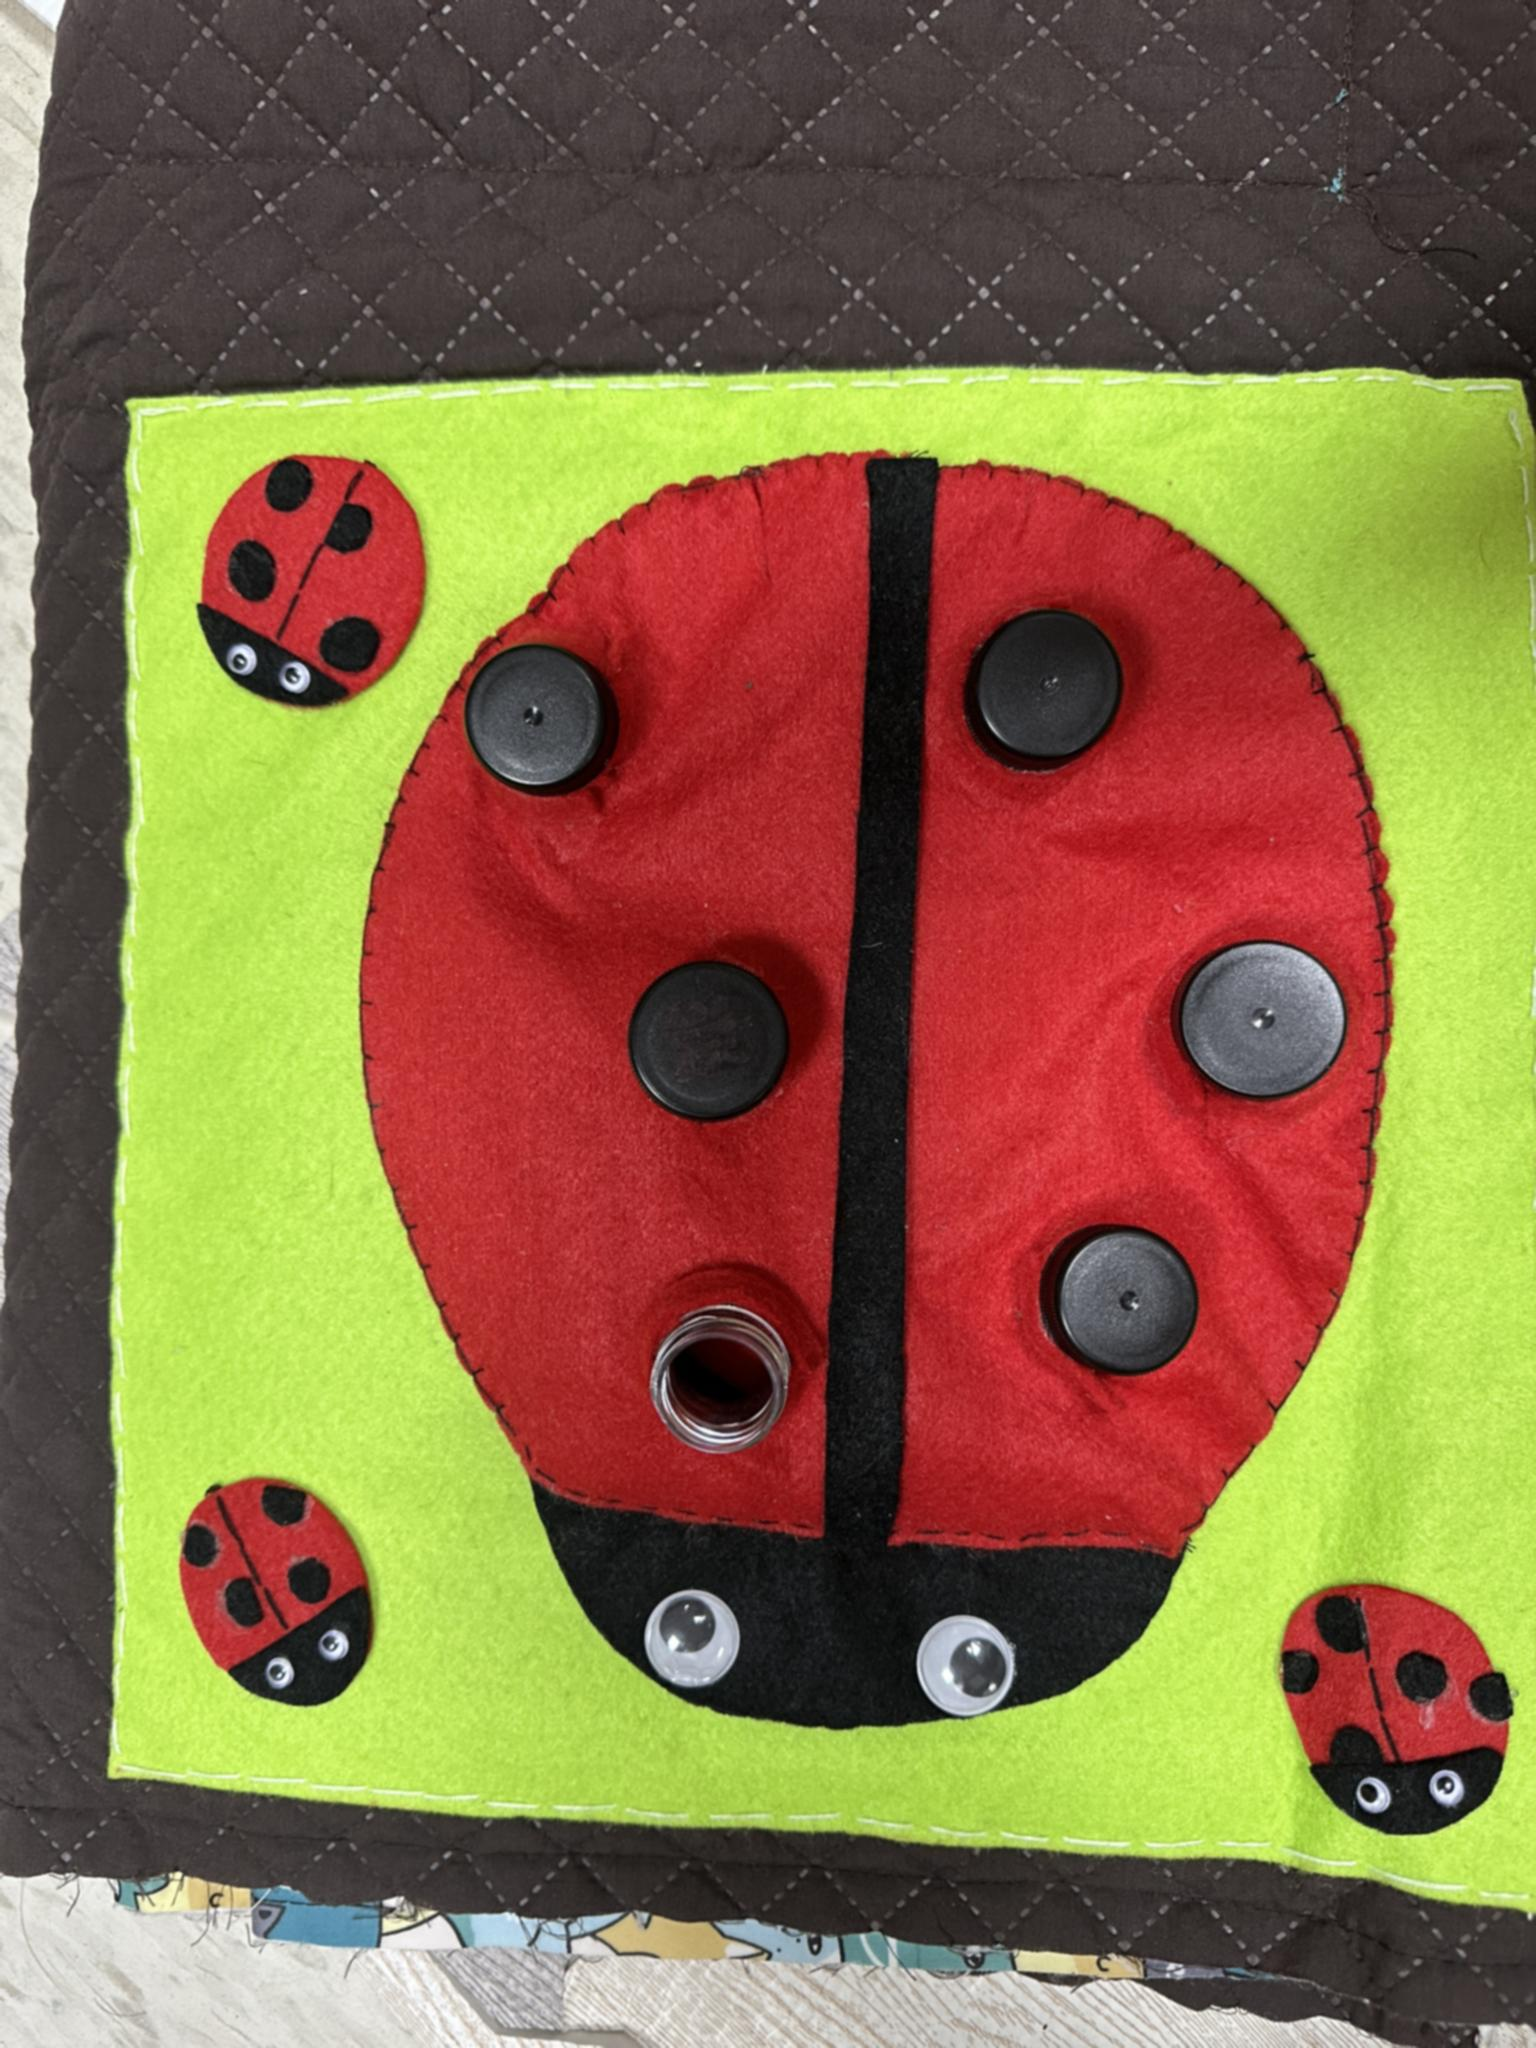cap_ok: (1002, 1197, 1217, 1401), (591, 947, 808, 1143), (1149, 918, 1354, 1126), (444, 619, 632, 832), (937, 593, 1136, 795)
